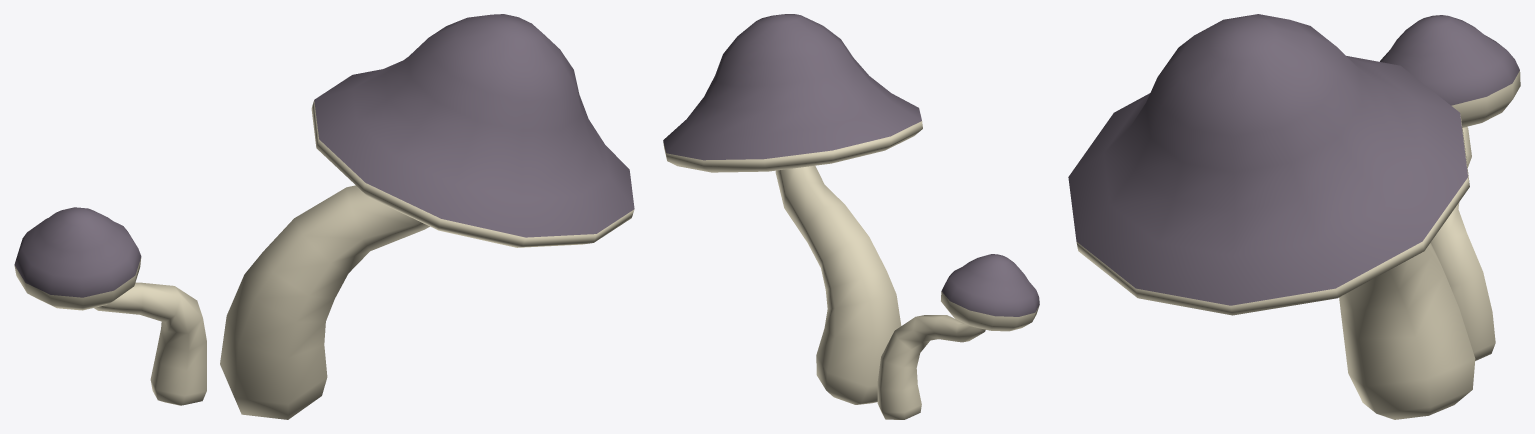
File: P_mushroom_07_LD.fbx
The picture shows the model from 3 angles, left to right: view 1: azimuth 30°, elevation 25°; view 2: azimuth 150°, elevation 25°; view 3: azimuth 270°, elevation 25°; orthographic projection. The views are drawn at different scales.
Visible parts, largest first — view 1: P_mushroom_07; view 2: P_mushroom_07; view 3: P_mushroom_07.
Boxes of the visible parts, bbox=[...] form: P_mushroom_07: bbox=[14, 14, 634, 419]; P_mushroom_07: bbox=[663, 14, 1039, 419]; P_mushroom_07: bbox=[1068, 14, 1520, 419].
Size of the model in its own units: 70.59 by 51.79 by 44.
